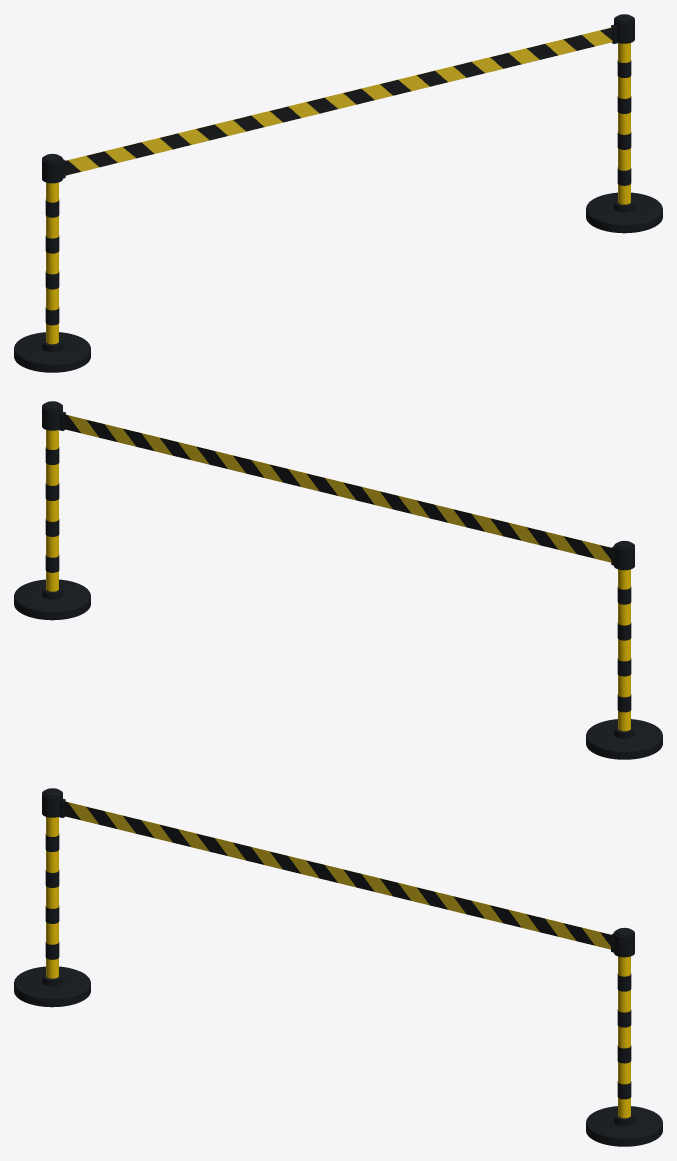
File: barrier-tape-on-weighted-posts.glb
The picture shows the model from 3 angles, top to bottom: view 1: azimuth 30°, elevation 25°; view 2: azimuth 150°, elevation 25°; view 3: azimuth 330°, elevation 25°; orthographic projection.
Visible parts, largest first — view 1: Printed barrier tape ribbon, Weighted base 0, Weighted base 1, Yellow post shaft 0, Yellow post shaft 1; view 2: Printed barrier tape ribbon, Weighted base 0, Weighted base 1, Yellow post shaft 0, Yellow post shaft 1; view 3: Printed barrier tape ribbon, Weighted base 1, Weighted base 0, Yellow post shaft 1, Yellow post shaft 0.
Boxes of the visible parts, x1,y1,x2,y2 form: Printed barrier tape ribbon: [65, 27, 612, 175]; Weighted base 0: [14, 332, 90, 372]; Weighted base 1: [586, 192, 662, 233]; Yellow post shaft 0: [46, 182, 58, 344]; Yellow post shaft 1: [618, 43, 630, 204]; Printed barrier tape ribbon: [64, 414, 611, 562]; Weighted base 0: [586, 719, 662, 759]; Weighted base 1: [14, 579, 90, 620]; Yellow post shaft 0: [618, 569, 630, 731]; Yellow post shaft 1: [46, 430, 58, 591]; Printed barrier tape ribbon: [64, 801, 610, 949]; Weighted base 1: [586, 1106, 662, 1146]; Weighted base 0: [14, 966, 90, 1007]; Yellow post shaft 1: [618, 956, 630, 1118]; Yellow post shaft 0: [46, 817, 58, 978].
Size of the model in its own units: 3.35 by 1 by 0.3499.
Materials: 3 (3 with a texture image).
